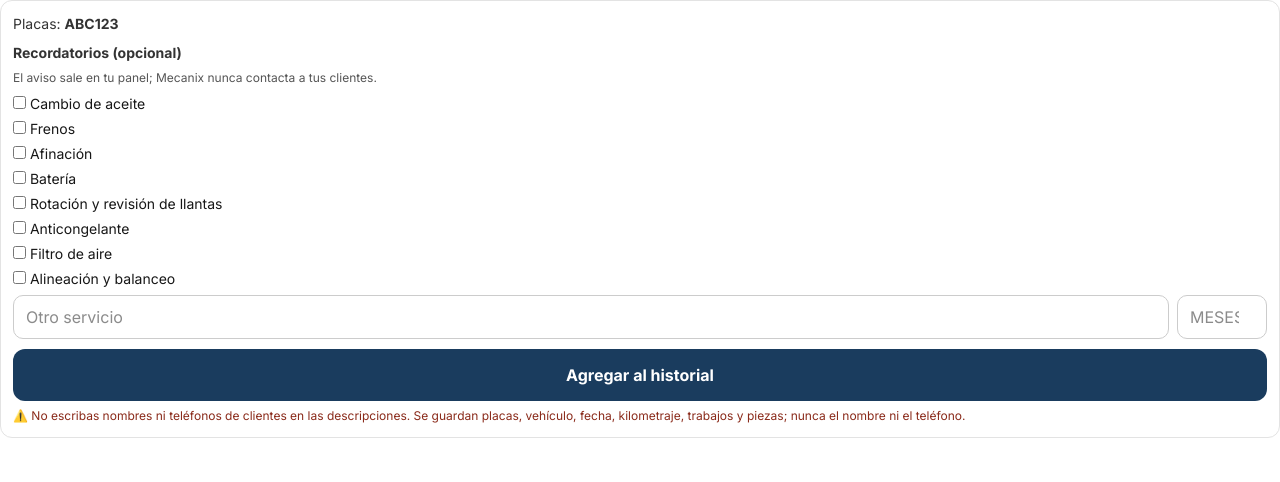
Test: "Agregar al historial" (debajo de "Descargar PDF") › un error de guardado se muestra en español
Click the button "Agregar al historial": (640, 375) x1=13 y1=349 x2=1267 y2=401
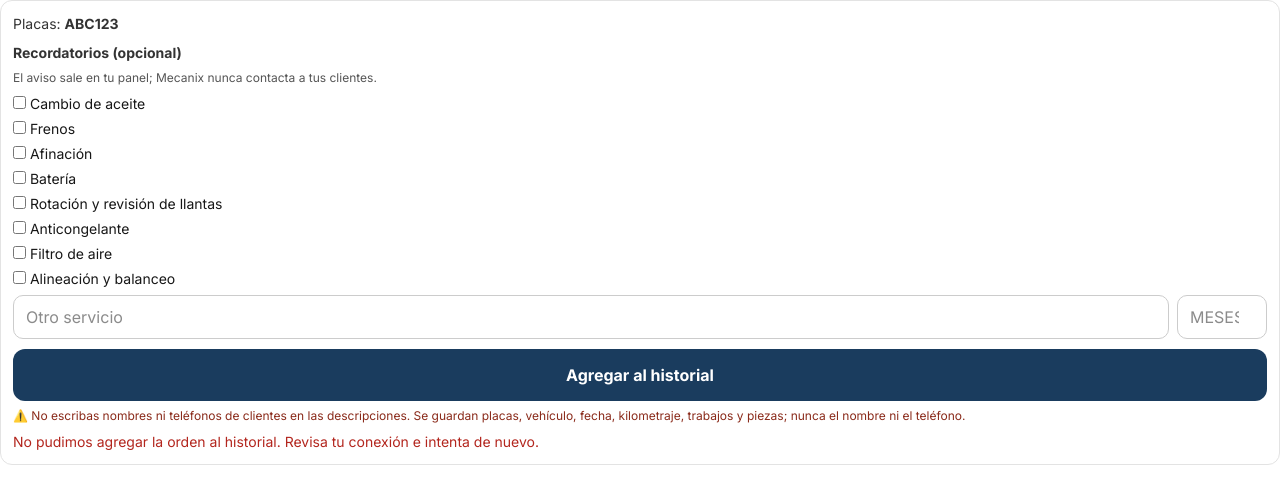
Check: the message shows "No pudimos agregar la orden al historial", box x1=13 y1=433 x2=539 y2=450
